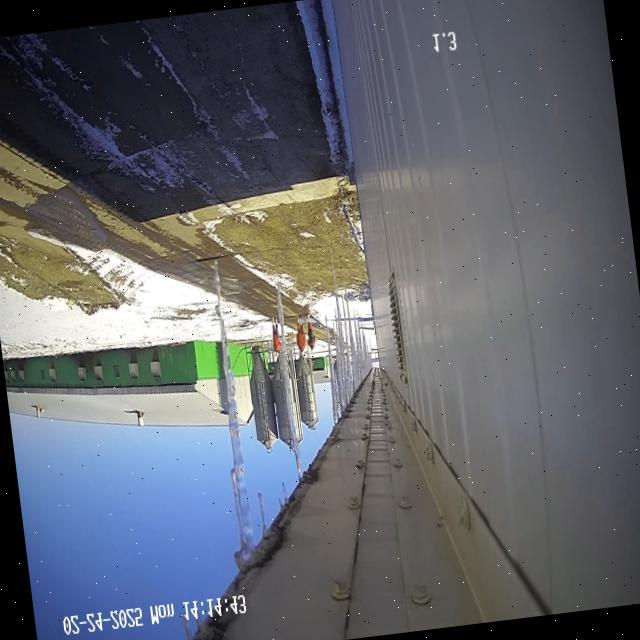Red uniform: (271, 317, 280, 359), (296, 315, 305, 352), (307, 315, 315, 350)
